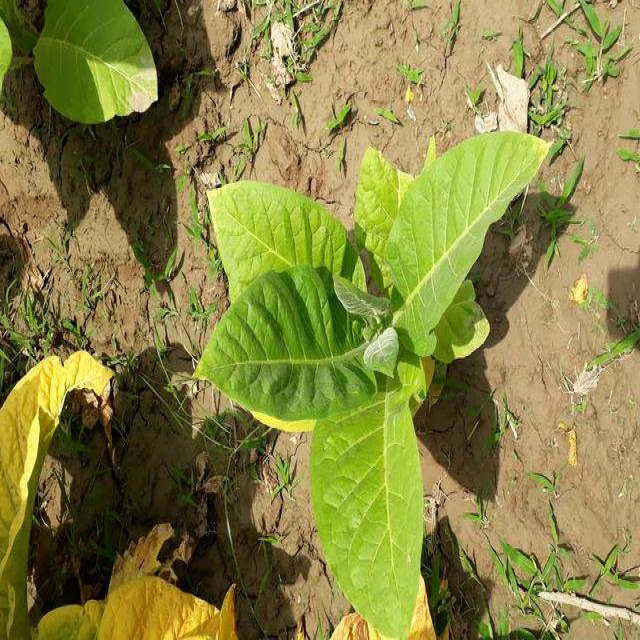crop: (204, 136, 542, 640), (0, 356, 107, 640), (0, 0, 161, 123), (58, 579, 256, 640)
